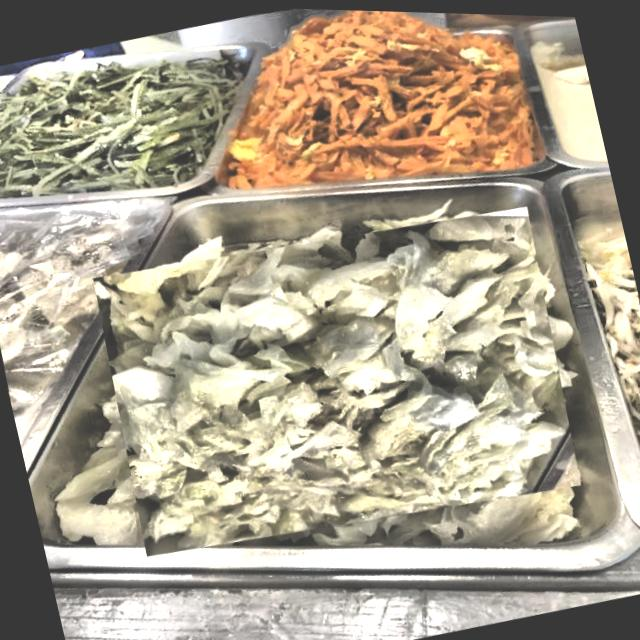Food: (82, 175, 590, 580), (213, 5, 515, 204), (576, 229, 640, 384)
